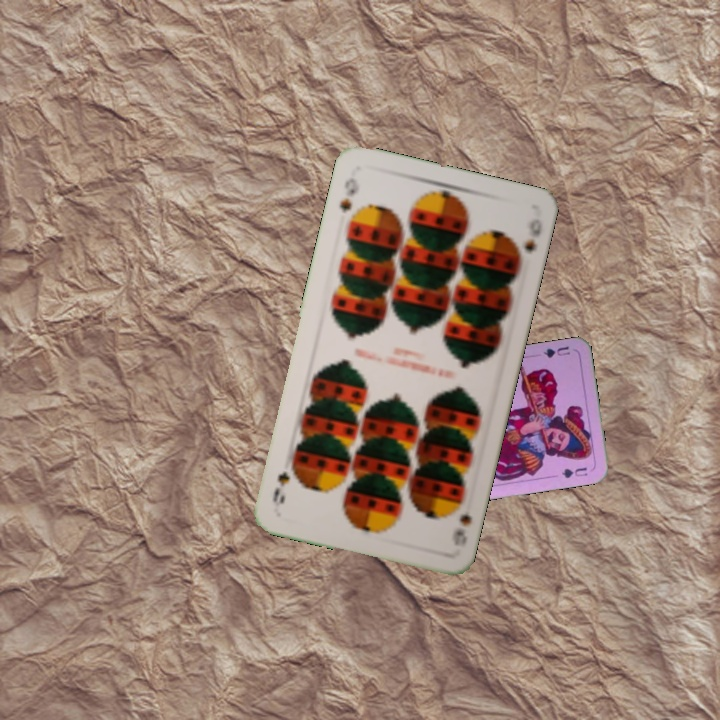GU: (540, 342, 572, 361)
S9: (448, 493, 475, 550), (335, 173, 362, 216)
